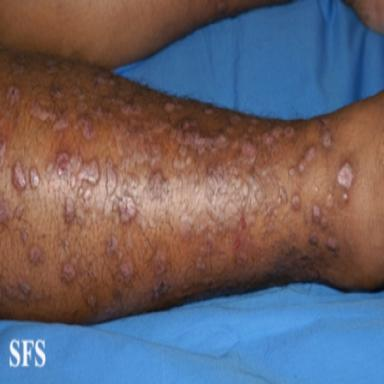Epidermolysis-Bullosa-Pruriginosa: (205, 160, 263, 231), (108, 118, 169, 166), (172, 118, 227, 169), (93, 159, 137, 222), (1, 279, 31, 300), (149, 171, 169, 201), (73, 117, 95, 141), (79, 159, 98, 185), (30, 101, 54, 121), (262, 126, 283, 148), (62, 255, 79, 282), (299, 146, 315, 173), (337, 163, 353, 188), (13, 162, 26, 190), (55, 153, 69, 177), (180, 214, 193, 238), (155, 247, 166, 275), (201, 233, 215, 254), (75, 90, 87, 112), (97, 70, 114, 85), (119, 262, 133, 280), (154, 280, 168, 298), (11, 56, 25, 74), (7, 86, 20, 105), (29, 246, 43, 263), (242, 141, 256, 158), (107, 235, 118, 256), (53, 117, 68, 132), (65, 197, 74, 222), (325, 183, 334, 207), (121, 104, 142, 114), (71, 155, 82, 173), (89, 106, 103, 120), (30, 167, 39, 187), (236, 250, 247, 266), (51, 85, 63, 98), (0, 137, 6, 163), (127, 175, 138, 189), (0, 203, 8, 222), (84, 189, 91, 210), (322, 132, 331, 148), (326, 237, 336, 250), (87, 295, 97, 308), (16, 203, 24, 219), (313, 205, 320, 223), (196, 256, 205, 270), (292, 195, 300, 210), (279, 187, 287, 202), (21, 230, 28, 246), (284, 126, 294, 137), (149, 215, 156, 230), (164, 102, 174, 112), (230, 114, 240, 124), (309, 234, 318, 245), (341, 191, 349, 203), (141, 219, 147, 233), (318, 118, 324, 130), (289, 242, 297, 251), (321, 217, 328, 227), (47, 162, 53, 173), (71, 175, 76, 187), (194, 182, 199, 194), (189, 170, 193, 183), (78, 187, 83, 197), (289, 167, 294, 175), (277, 197, 281, 206), (118, 251, 122, 260), (314, 186, 318, 193)
